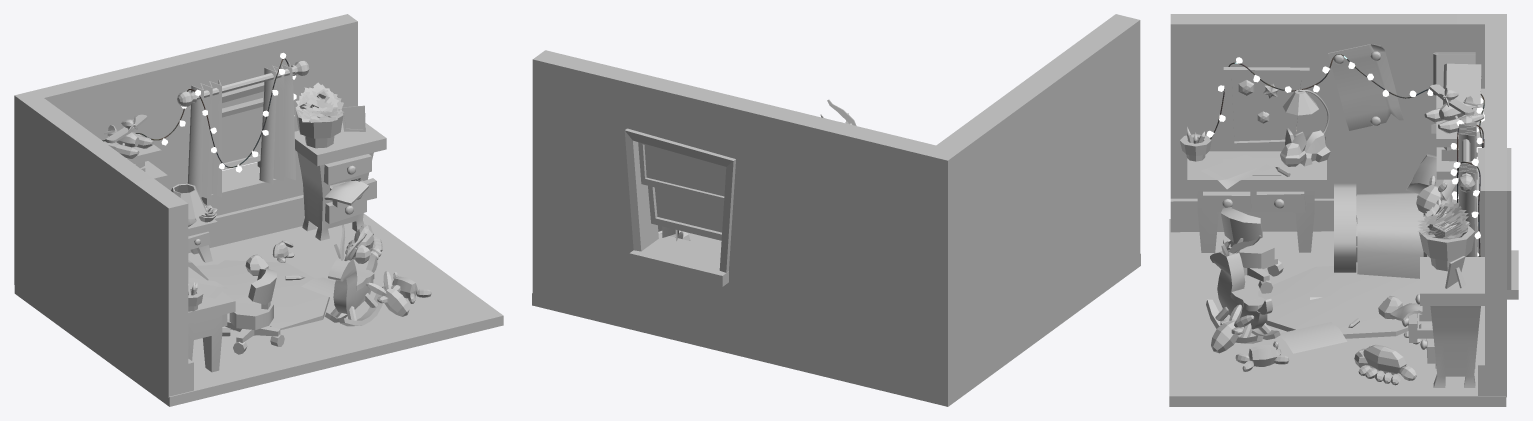
The model's file is room 3(1).fbx.
3 views of the same model, side by side, from view 1: azimuth 30°, elevation 25°; view 2: azimuth 150°, elevation 25°; view 3: azimuth 270°, elevation 25° (orthographic). The views are drawn at different scales.
Parts seen in each view (by area): view 1: walls_wallsmaterial_0, floor_wallsmaterial_0, carpet_roommaterial_0, curtain_R_roommaterial_0, curtain_L_roommaterial_0, skeleton_roommaterial_0, top_chest_roommaterial_0, bottom_glass_window_wallsmaterial_0, parapet_window_wallsmaterial_0, body_yakul_roommaterial_0, skeleton_desk_roommaterial_0, seat_chair_roommaterial_0 (+14 smaller); view 2: walls_wallsmaterial_0, floor_wallsmaterial_0, parapet_window_wallsmaterial_0, top_glass_window_wallsmaterial_0, bottom_glass_window_wallsmaterial_0, top_frame_window_wallsmaterial_0, bottom_frame_window_wallsmaterial_0; view 3: walls_wallsmaterial_0, floor_wallsmaterial_0, carpet_roommaterial_0, duvet_bedmaterial_0, board_roommaterial_0, poster1_roommaterial_0, top_desk_roommaterial_0, skeleton_roommaterial_0, top_chest_roommaterial_0, bed_feet_bedmaterial_0, skeleton_desk_roommaterial_0, body_yakul_roommaterial_0 (+37 smaller).
Boxes of the visible parts, <box> form: walls_wallsmaterial_0: <box>14,14,357,397</box>; floor_wallsmaterial_0: <box>14,213,503,406</box>; carpet_roommaterial_0: <box>196,260,329,330</box>; curtain_R_roommaterial_0: <box>259,62,295,184</box>; curtain_L_roommaterial_0: <box>187,79,221,199</box>; skeleton_roommaterial_0: <box>297,152,373,240</box>; top_chest_roommaterial_0: <box>294,121,386,166</box>; bottom_glass_window_wallsmaterial_0: <box>222,107,263,163</box>; parapet_window_wallsmaterial_0: <box>201,162,281,205</box>; body_yakul_roommaterial_0: <box>328,257,373,313</box>; skeleton_desk_roommaterial_0: <box>188,315,222,372</box>; seat_chair_roommaterial_0: <box>229,295,273,330</box>; walls_wallsmaterial_0: <box>532,14,1140,396</box>; floor_wallsmaterial_0: <box>532,232,1140,406</box>; parapet_window_wallsmaterial_0: <box>629,233,728,286</box>; top_glass_window_wallsmaterial_0: <box>644,145,726,196</box>; bottom_glass_window_wallsmaterial_0: <box>654,187,723,232</box>; top_frame_window_wallsmaterial_0: <box>638,142,724,203</box>; bottom_frame_window_wallsmaterial_0: <box>648,185,721,240</box>; walls_wallsmaterial_0: <box>1170,14,1511,397</box>; floor_wallsmaterial_0: <box>1169,219,1506,406</box>; carpet_roommaterial_0: <box>1258,264,1422,338</box>; duvet_bedmaterial_0: <box>1356,192,1451,278</box>; board_roommaterial_0: <box>1223,67,1309,150</box>; poster1_roommaterial_0: <box>1328,44,1403,130</box>; top_desk_roommaterial_0: <box>1187,151,1326,191</box>; skeleton_roommaterial_0: <box>1430,306,1480,387</box>; top_chest_roommaterial_0: <box>1420,257,1484,305</box>; bed_feet_bedmaterial_0: <box>1334,183,1356,272</box>; skeleton_desk_roommaterial_0: <box>1197,191,1314,252</box>; body_yakul_roommaterial_0: <box>1210,249,1267,329</box>.
Bounding box in the file's own units: 4686 × 2677 × 3897.
